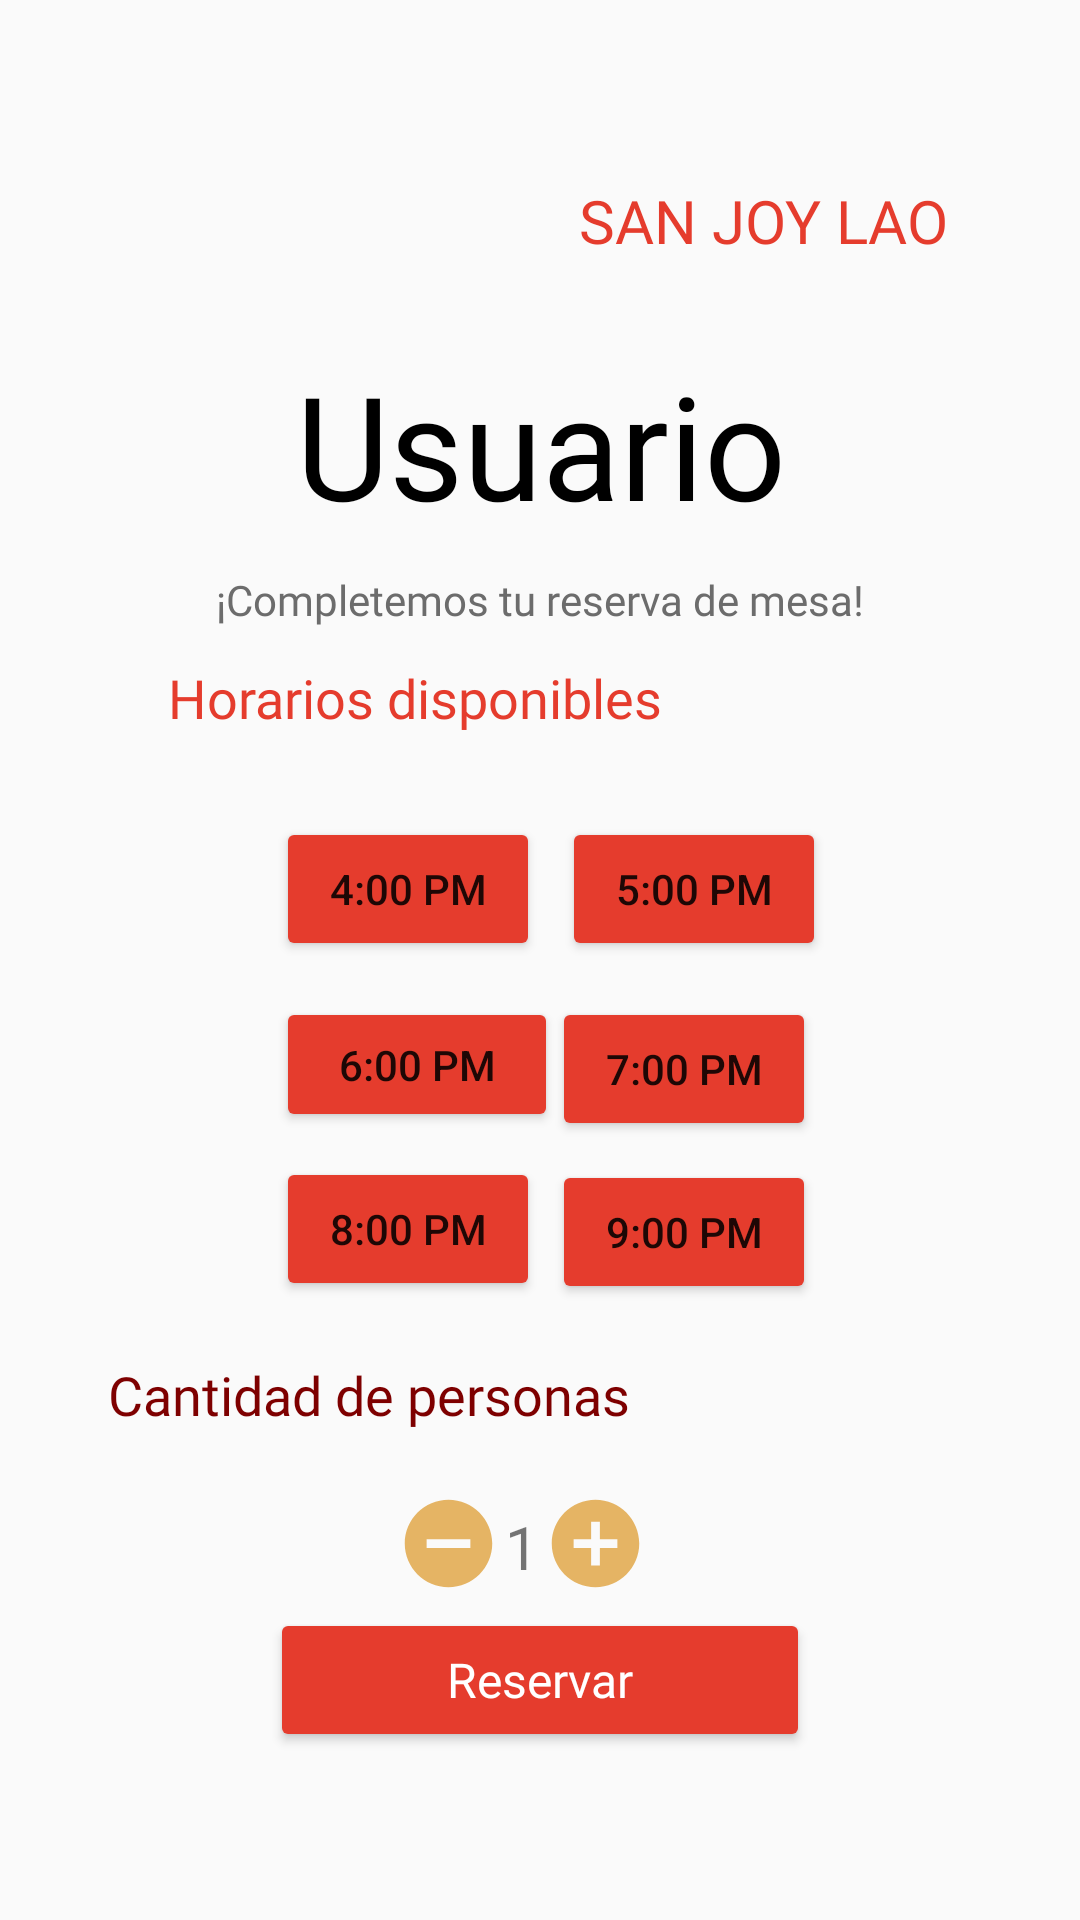

Screen size 1080x1920. Icon name, then its box in pixels as box=[x1, y1, x2, y2]:
add circle ama: box=[551, 1499, 640, 1588]
remove circle: box=[404, 1499, 493, 1588]
